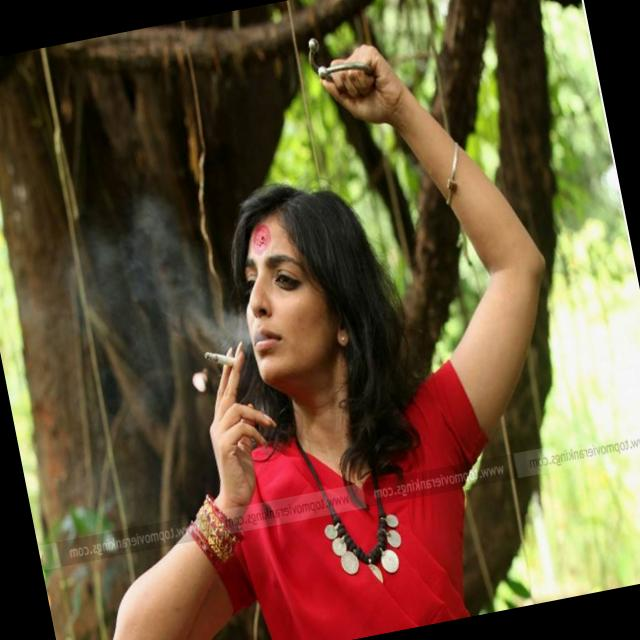cigarette: (204, 346, 238, 372)
